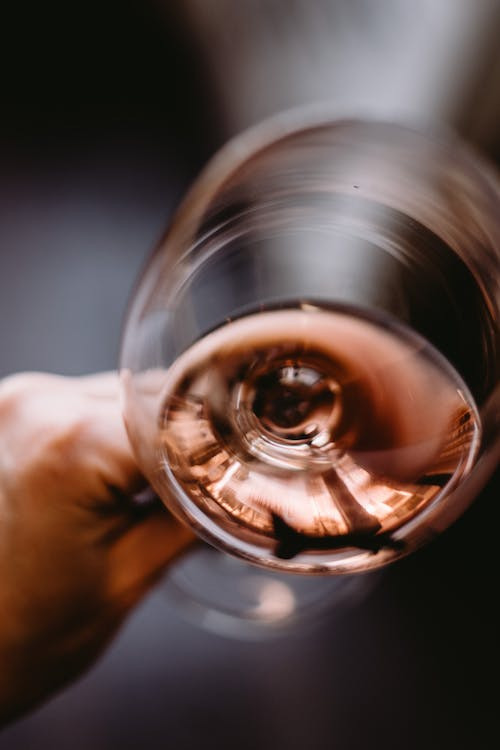alcohol: (112, 95, 500, 646)
